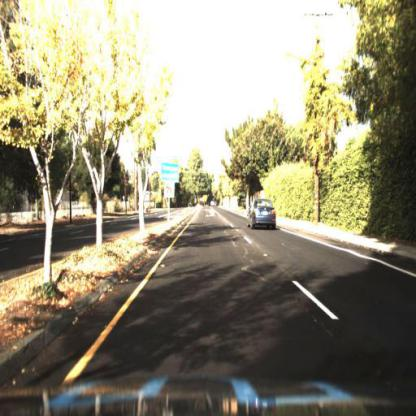car: (245, 198, 278, 233)
